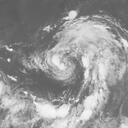cyclone: (37, 15, 103, 83)
